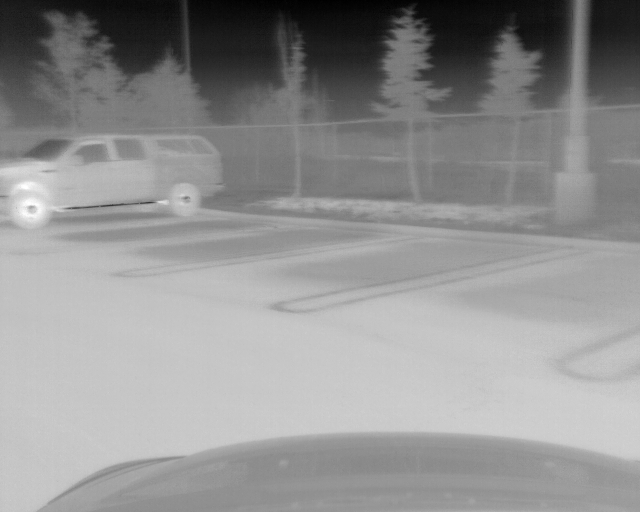car: (4, 134, 229, 230)
